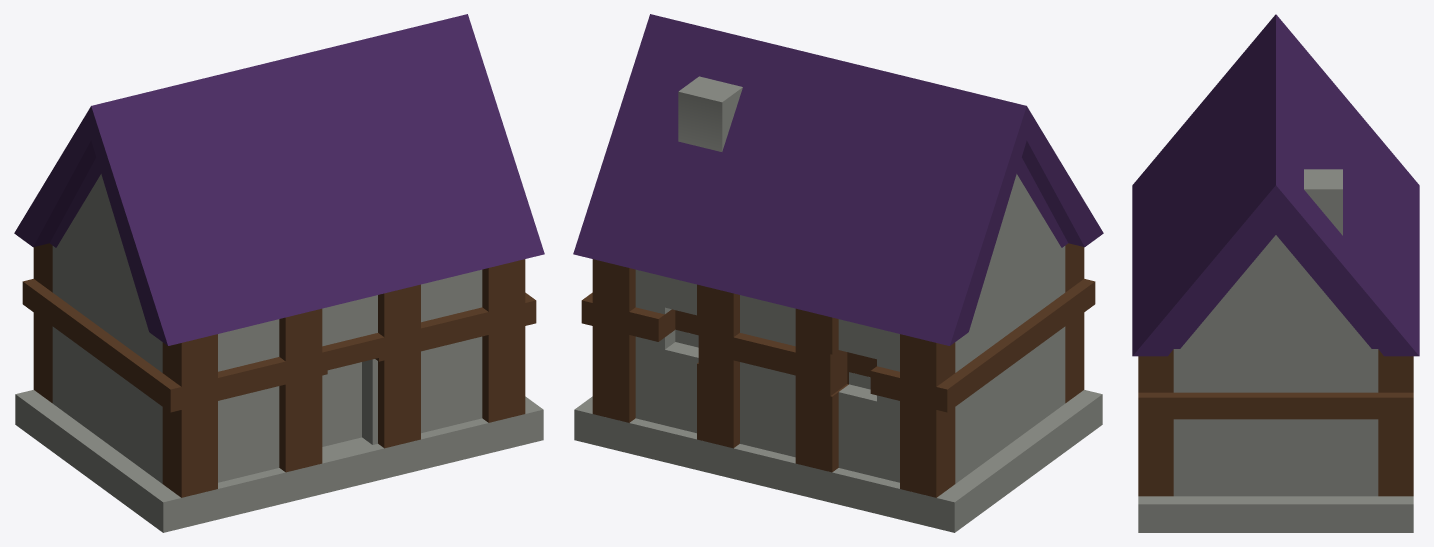
File: gehoeft_indigo.glb
3 views of the same model, side by side, from view 1: azimuth 30°, elevation 25°; view 2: azimuth 150°, elevation 25°; view 3: azimuth 270°, elevation 25° (orthographic). The views are drawn at different scales.
Visible parts, largest first — view 1: gehoeft_indigo; view 2: gehoeft_indigo; view 3: gehoeft_indigo.
Boxes of the visible parts, x1,y1,x2,y2 form: gehoeft_indigo: [14, 14, 544, 532]; gehoeft_indigo: [573, 14, 1103, 532]; gehoeft_indigo: [1132, 14, 1419, 532].
Bounding box in the file's own units: 10.4 × 9.74 × 7.3.
